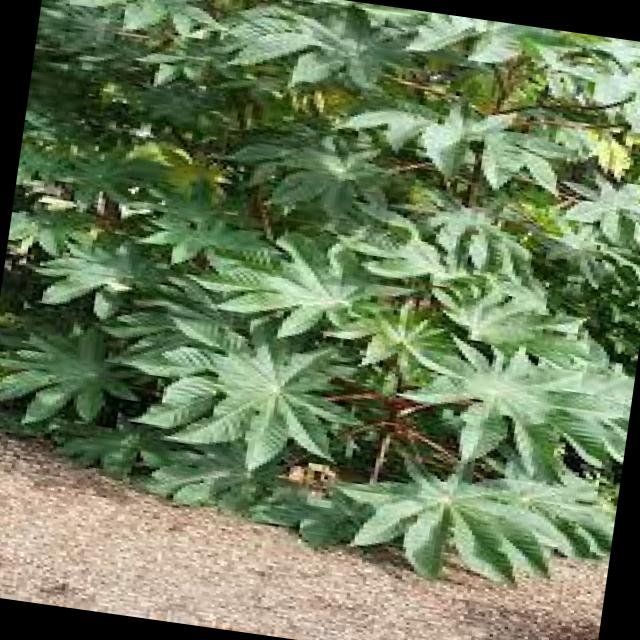Castor Oil Plant: (132, 320, 618, 624), (232, 180, 640, 534), (298, 40, 640, 311), (0, 243, 297, 503), (8, 104, 247, 286), (89, 0, 321, 119)
